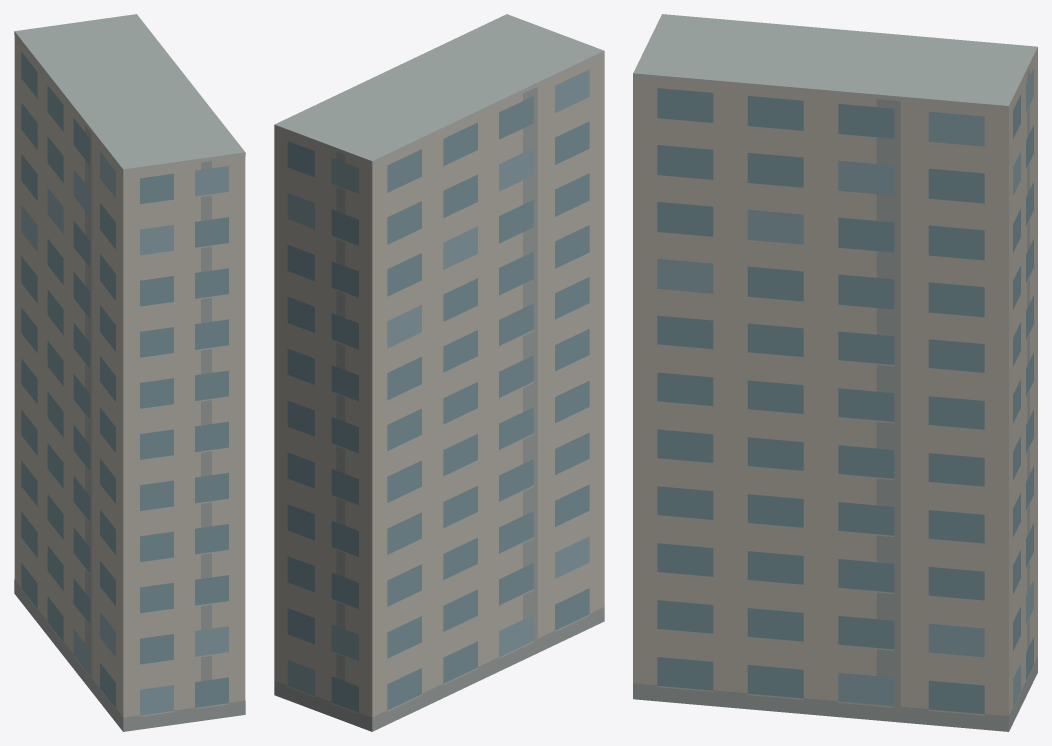
The model's file is residential-cb93001c-8a00-4d10-ae66-414bfd700c0b.glb.
The picture shows the model from 3 angles, left to right: view 1: azimuth 30°, elevation 25°; view 2: azimuth 150°, elevation 25°; view 3: azimuth 270°, elevation 25°; orthographic projection. The views are drawn at different scales.
Parts seen in each view (by area): view 1: residential-cb93001c-8a00-4d10-ae66-414bfd700c0b.tmp; view 2: residential-cb93001c-8a00-4d10-ae66-414bfd700c0b.tmp; view 3: residential-cb93001c-8a00-4d10-ae66-414bfd700c0b.tmp.
Boxes of the visible parts, <box> form: residential-cb93001c-8a00-4d10-ae66-414bfd700c0b.tmp: <box>14,14,245,731</box>; residential-cb93001c-8a00-4d10-ae66-414bfd700c0b.tmp: <box>274,14,604,731</box>; residential-cb93001c-8a00-4d10-ae66-414bfd700c0b.tmp: <box>633,14,1037,731</box>.
Bounding box in the file's own units: 10.73 × 34 × 19.94.
